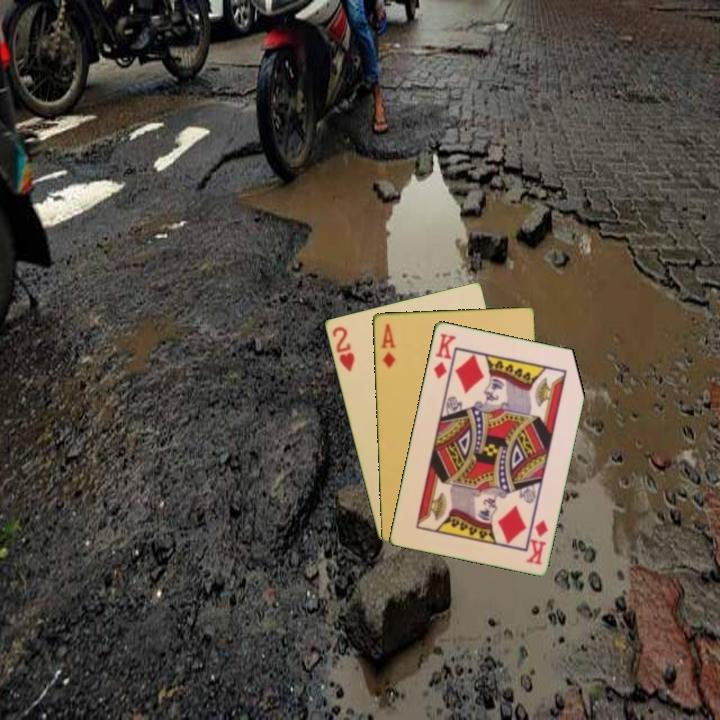2h: (328, 323, 357, 374)
Ad: (377, 320, 398, 370)
Kd: (430, 329, 459, 382), (522, 516, 551, 567)
